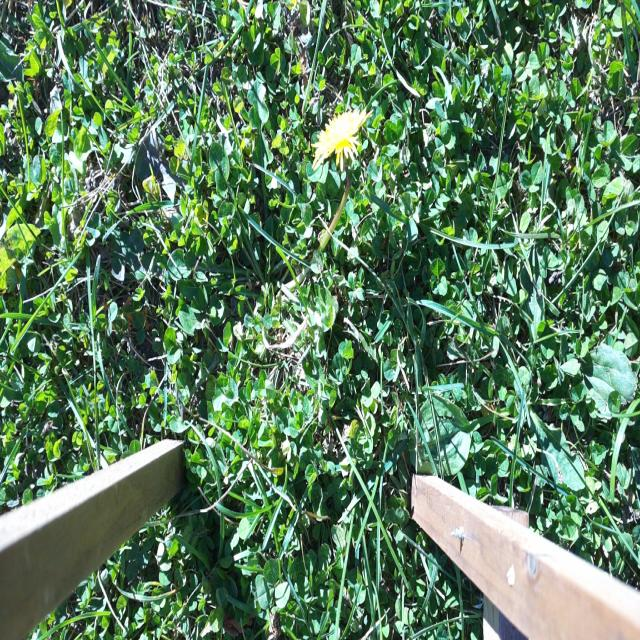base: (262, 274, 292, 322)
flower: (313, 108, 369, 166)
